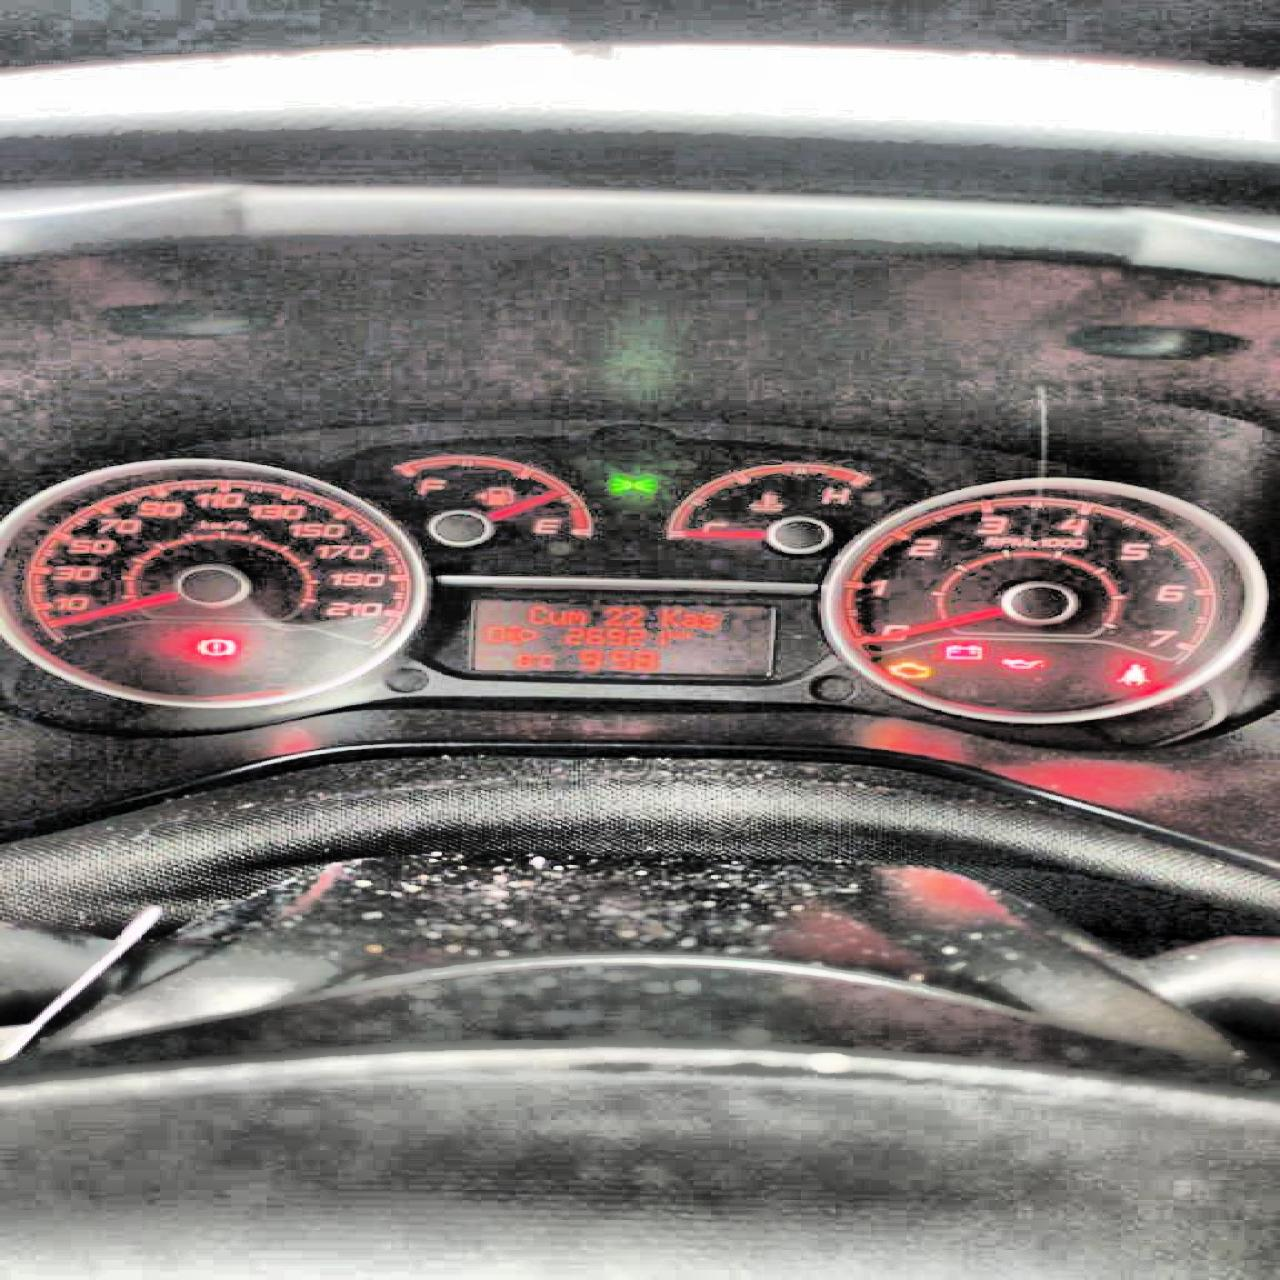0: (482, 624, 502, 642)
1: (655, 628, 665, 646)
2: (600, 605, 622, 625), (622, 606, 645, 625), (625, 627, 645, 647), (561, 625, 583, 644)
5: (607, 649, 632, 669)
6: (583, 626, 602, 645)
8: (632, 651, 655, 669), (513, 653, 531, 667)
9: (573, 647, 600, 667), (605, 627, 625, 645)
X: (523, 604, 546, 625), (658, 607, 680, 626), (546, 607, 565, 625), (697, 613, 719, 627), (566, 610, 585, 625), (536, 652, 553, 667), (680, 612, 697, 627), (675, 631, 692, 638), (667, 627, 675, 638)
odometer: (459, 595, 779, 682)
